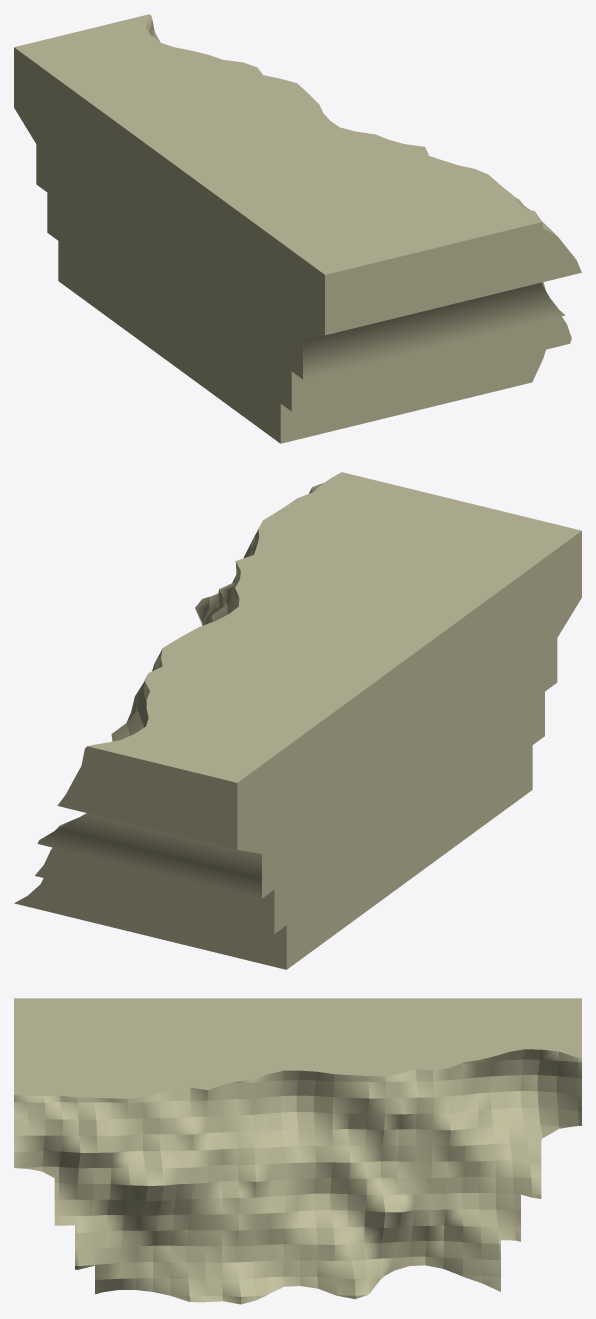
Rendered from M_Architrave_D12_1.fbx.
3 renders of one model, top to bottom at view 1: azimuth 30°, elevation 25°; view 2: azimuth 150°, elevation 25°; view 3: azimuth 270°, elevation 25°, orthographic. The views are drawn at different scales.
Parts seen in each view (by area): view 1: M_Architrave; view 2: M_Architrave; view 3: M_Architrave.
Part boxes in pixels (x1,y1,x2,y2): M_Architrave: (14,14,581,443); M_Architrave: (14,472,581,969); M_Architrave: (14,998,581,1304).
Bounding box in the file's own units: 1.83 × 1.25 × 3.5.
